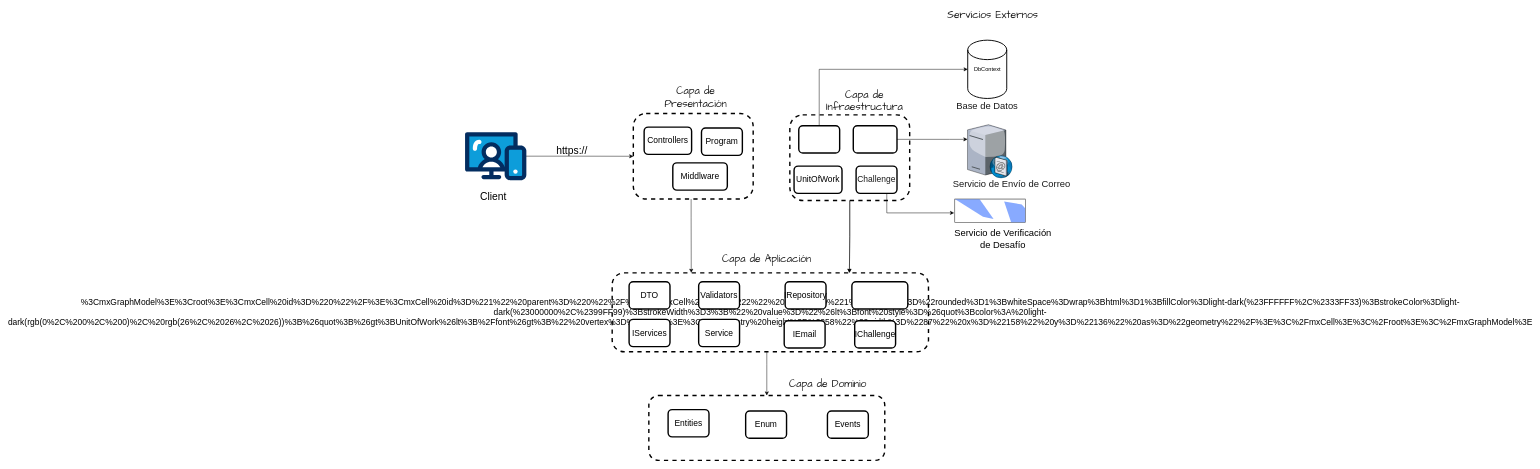
This 1540x469 diagram has some shape labels left out. The shapes that lost their labels are listed below. From the top down, each one's centre as x and y in pixels, then its label:
the point at 819,139: Repository
the point at 874,139: Email
the point at 989,211: fG2yQ23
the point at 879,295: IUnitOfWork
